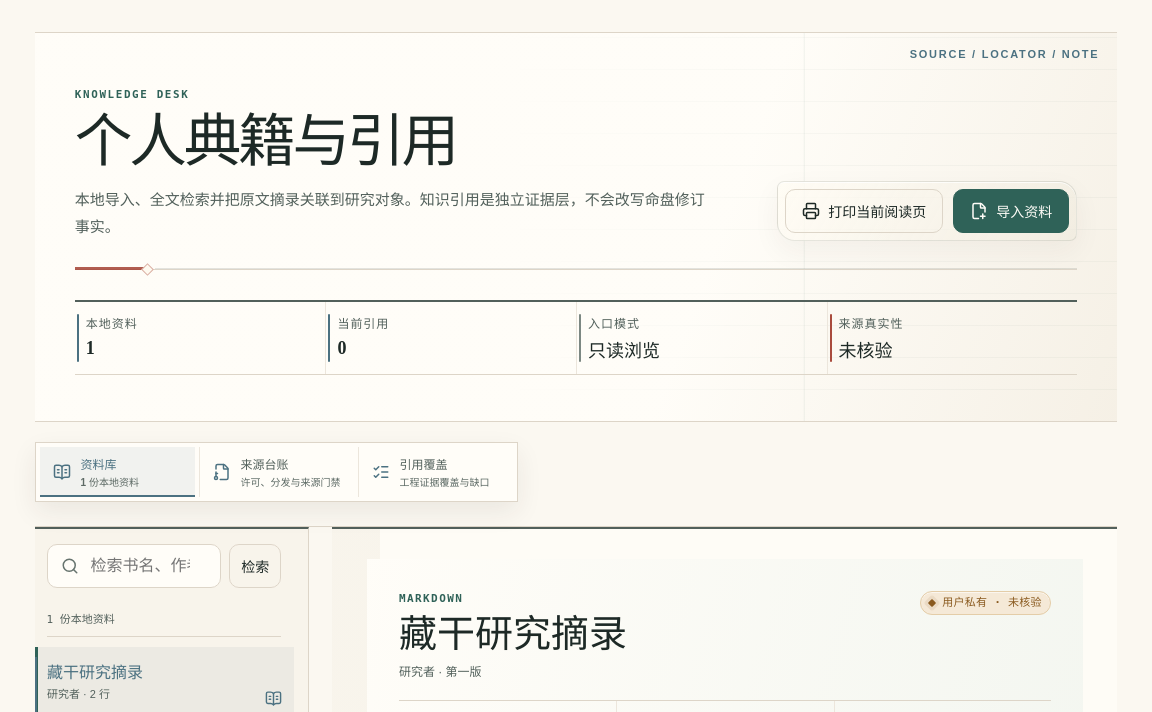
Test: KnowledgePage › 只通过平台端口打印当前阅读页，并在适配器拒绝时显示可重试错误
What coordinates should you click on to do the following:
click the button "打印当前阅读页"
I would click on:
 (864, 211)
Its box is left=785, top=189, right=943, bottom=233.
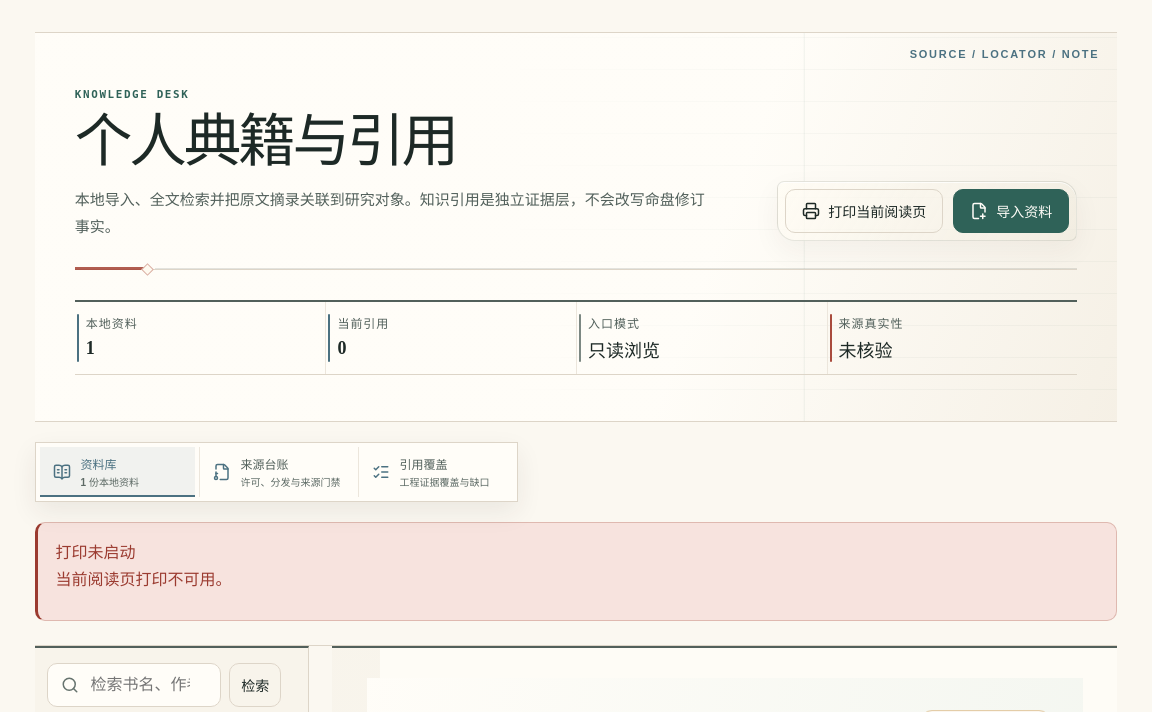
Now the text "当前阅读页打印不可用。" is shown, box left=56, top=571, right=232, bottom=588
What coordinates should you click on to do the following:
click the button "打印当前阅读页"
I would click on:
 (864, 211)
Its box is left=785, top=189, right=943, bottom=233.
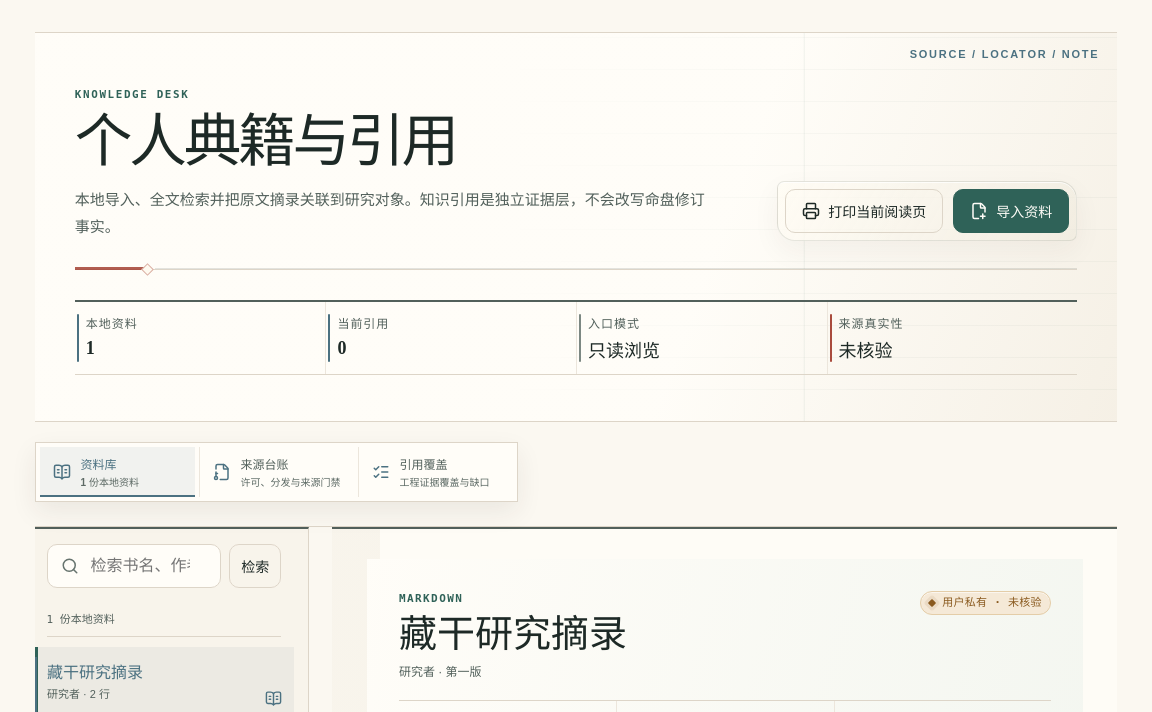
Now the text "当前阅读页打印不可用。" is gone
